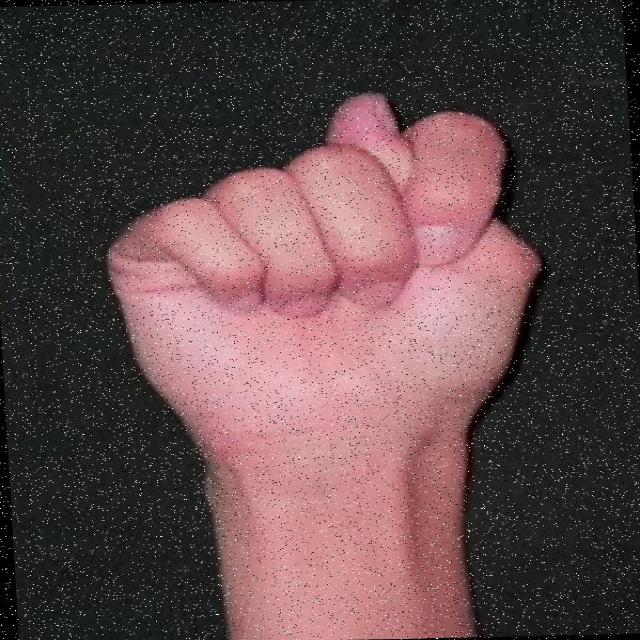T: (90, 82, 565, 474)
